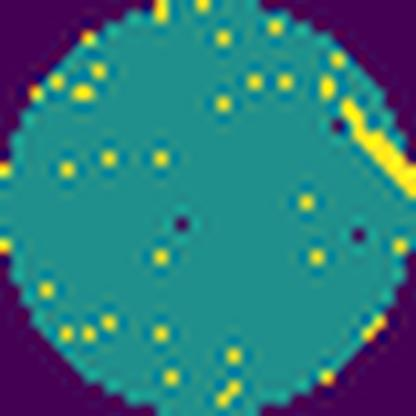Loc: (338, 99, 416, 202)
